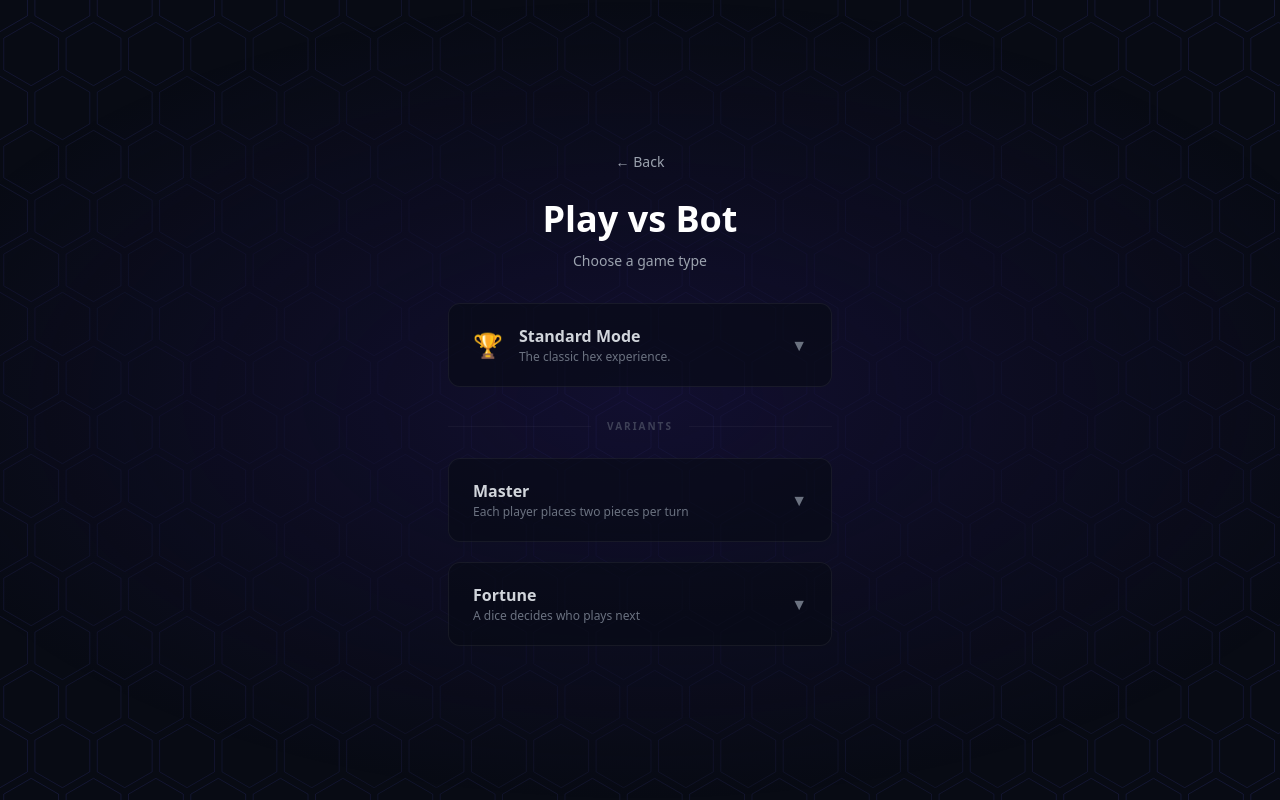
GameSelect Component › UI interactions › can toggle variant panel open and close
The width and height of the screenshot is (1280, 800).
// Open Master using description to find unique card
Click the button "Each player places two pieces per turn": coordinates (640, 500) [448,458,832,542]
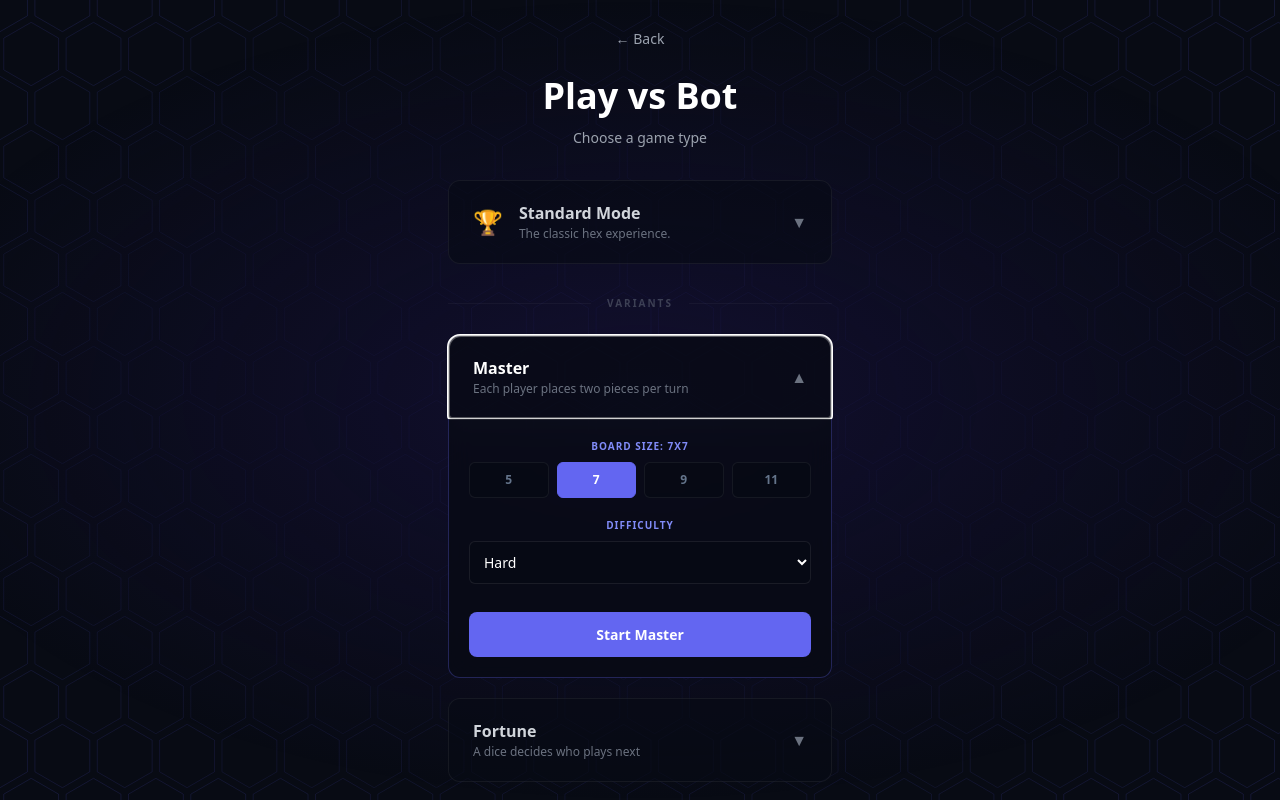
Now the button "Start Master" is shown, box [469,612,811,657]
// Close Master
Click the button "Each player places two pieces per turn": coordinates (640, 377) [448,335,832,419]
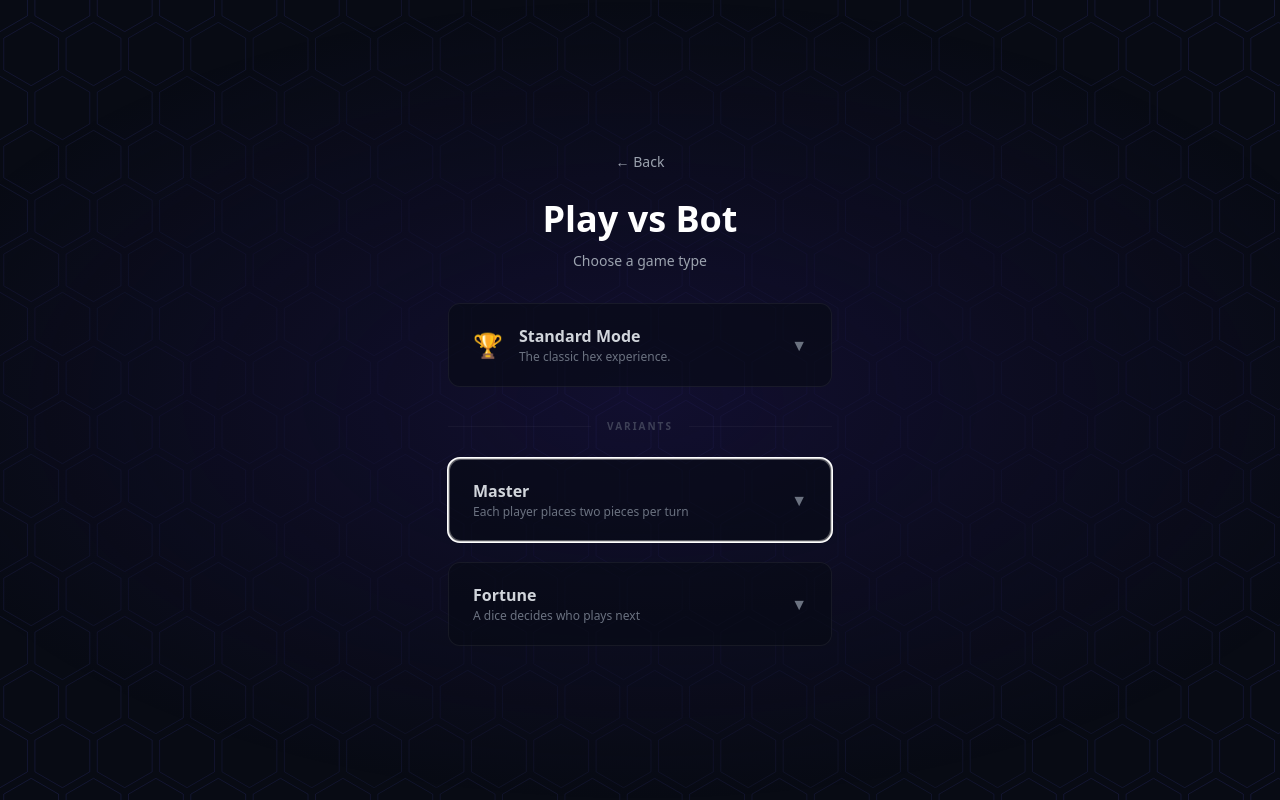
Now the button "Start Master" is gone
